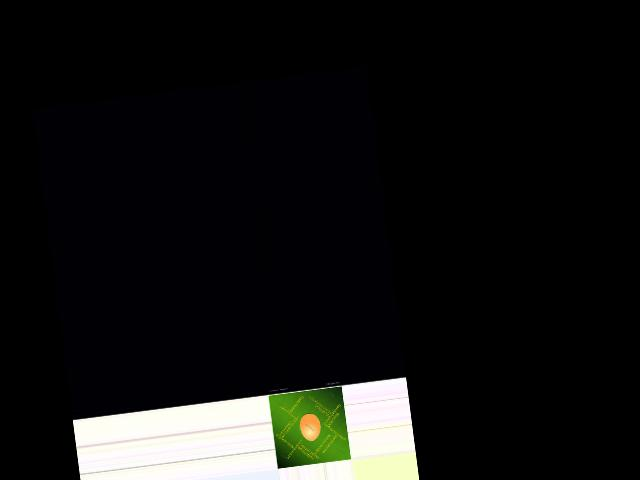egg: (297, 412, 321, 441)
